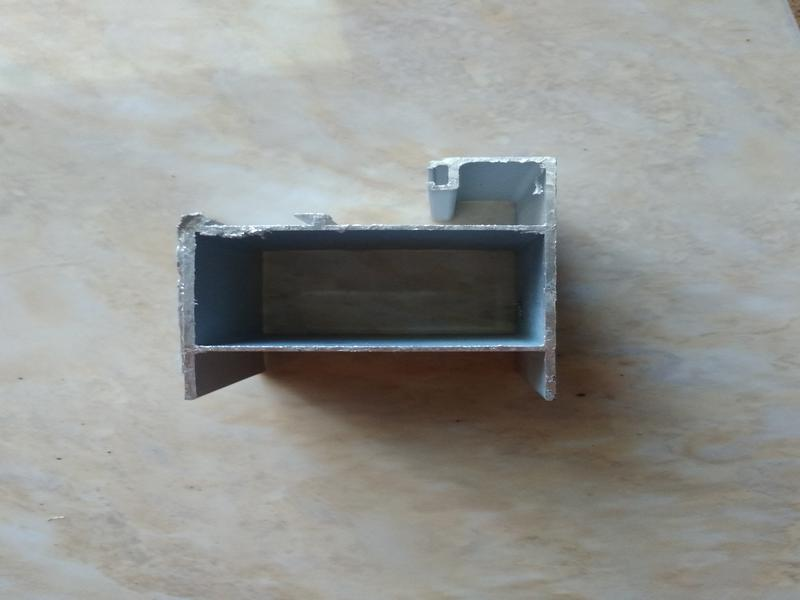Aluminium_2: (139, 112, 615, 440)
